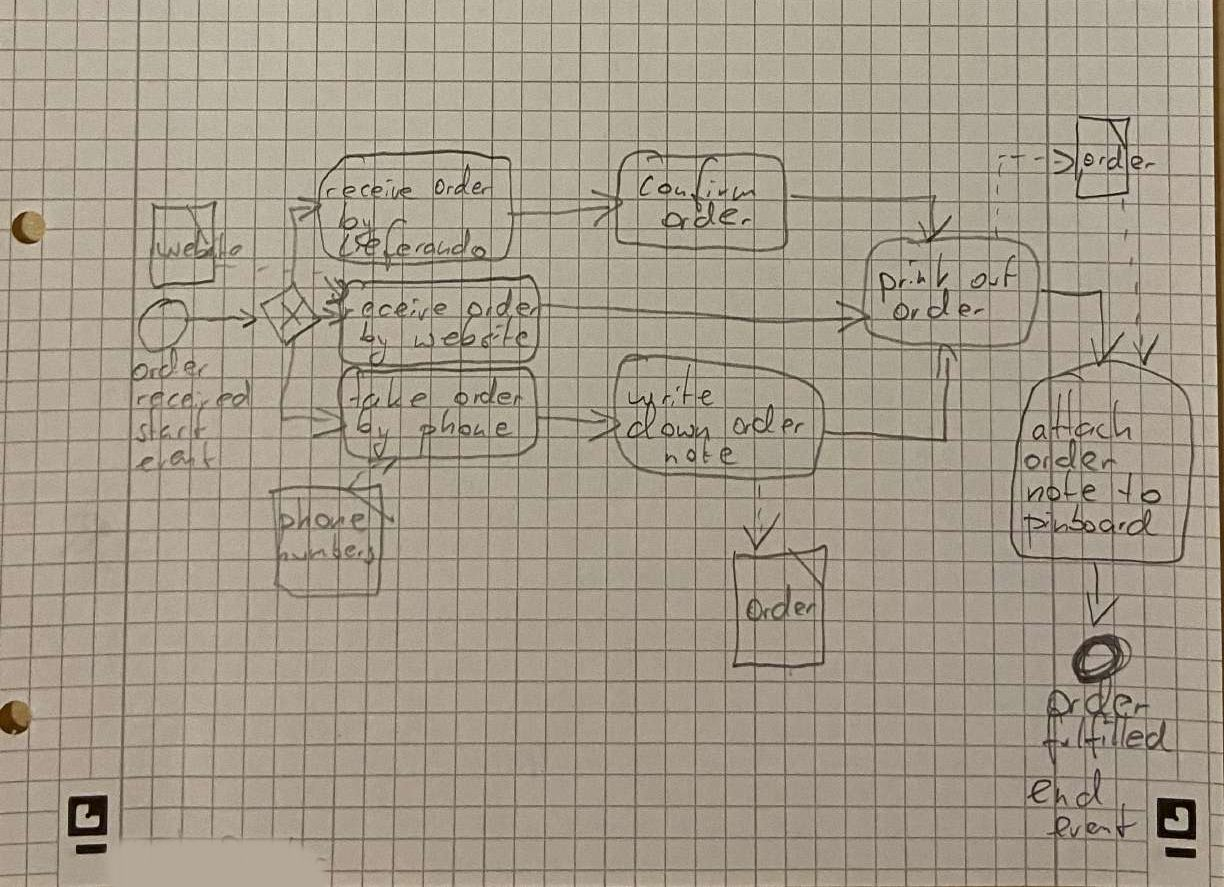Lieferando: (334, 230, 486, 268)
Order: (1046, 678, 1149, 717)
attach: (1030, 387, 1134, 445)
by: (357, 414, 407, 456), (356, 321, 395, 365), (334, 203, 379, 241)
clown: (624, 408, 715, 440)
confirm: (637, 158, 758, 213)
end: (1030, 772, 1109, 808)
event: (1044, 810, 1140, 842), (134, 443, 222, 471)
fulfilled: (1038, 712, 1174, 766)
note: (1023, 472, 1104, 507), (661, 442, 736, 468)
numbers: (275, 536, 379, 566)
order: (891, 290, 989, 327), (744, 582, 819, 626), (658, 201, 758, 233), (1024, 444, 1122, 474), (127, 352, 212, 385), (428, 162, 499, 201), (727, 405, 809, 437), (451, 378, 527, 412), (465, 287, 543, 319), (1080, 147, 1162, 177)
out: (966, 254, 1023, 295)
phone: (415, 411, 514, 458), (274, 498, 372, 534)
pinboard: (1021, 507, 1159, 546)
print: (877, 255, 952, 298)
receive: (338, 298, 451, 324), (322, 176, 420, 203)
received: (133, 378, 254, 412)
start: (134, 409, 210, 444)
take: (346, 370, 433, 412)
to: (1114, 472, 1163, 507)
website: (412, 315, 533, 353), (154, 236, 247, 259)
write: (627, 364, 720, 406)
